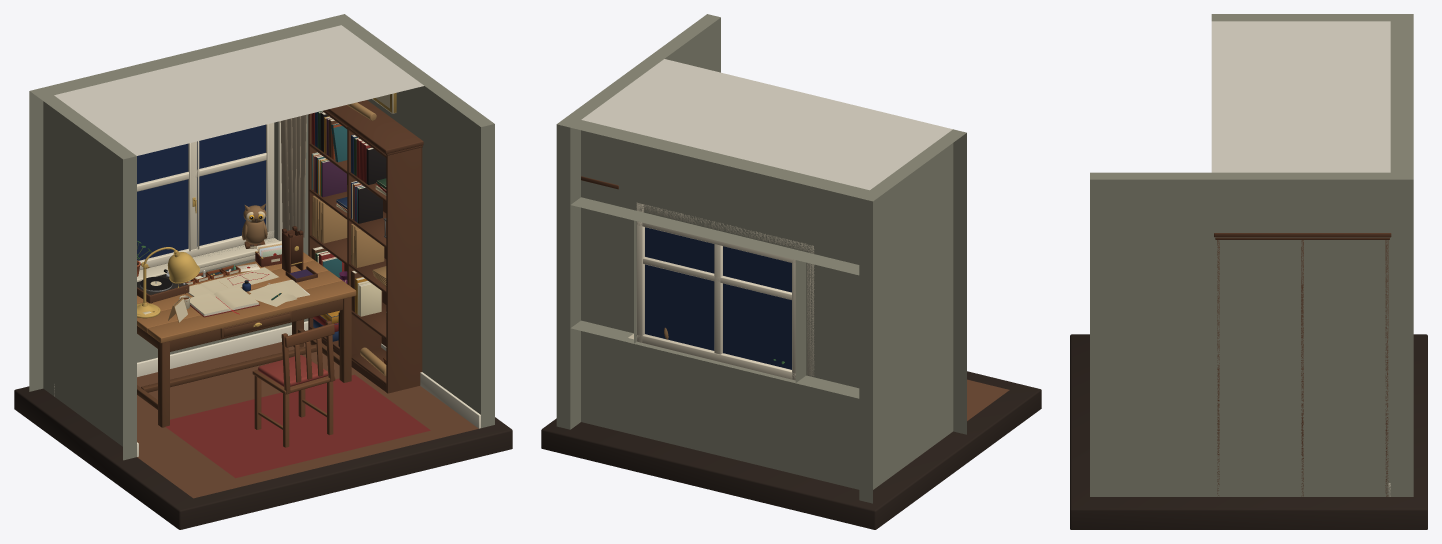
The model's file is study.glb.
3 views of the same model, side by side, from view 1: azimuth 30°, elevation 25°; view 2: azimuth 150°, elevation 25°; view 3: azimuth 270°, elevation 25° (orthographic). The views are drawn at different scales.
Parts seen in each view (by area): view 1: room_wall_sides, room_ceiling, shelf, room_slab, room_floor, room_rug, window_glass, room_wall_front, desk_frame, room_window, chair, desk_top_1 (+17 smaller); view 2: room_wall_front, room_wall_sides, room_ceiling, room_slab, window_glass, room_window, room_floor; view 3: room_wall_sides, room_ceiling, room_slab, room_wall_front, shelf.
Boxes of the visible parts, bbox=[...] form: room_wall_sides: bbox=[29, 14, 494, 460]; room_ceiling: bbox=[54, 25, 423, 155]; shelf: bbox=[308, 100, 423, 393]; room_slab: bbox=[14, 386, 512, 529]; room_floor: bbox=[137, 342, 478, 498]; room_rug: bbox=[165, 374, 430, 478]; window_glass: bbox=[137, 124, 265, 260]; room_wall_front: bbox=[43, 17, 340, 395]; desk_frame: bbox=[137, 297, 351, 427]; room_window: bbox=[137, 121, 282, 270]; chair: bbox=[252, 320, 335, 447]; desk_top_1: bbox=[147, 281, 356, 343]; room_wall_front: bbox=[570, 120, 869, 489]; room_wall_sides: bbox=[556, 14, 966, 503]; room_ceiling: bbox=[581, 59, 952, 190]; room_slab: bbox=[541, 371, 1041, 529]; window_glass: bbox=[645, 227, 791, 369]; room_window: bbox=[636, 202, 814, 380]; room_floor: bbox=[967, 379, 1009, 420]; room_wall_sides: bbox=[1090, 14, 1413, 496]; room_ceiling: bbox=[1211, 21, 1390, 172]; room_slab: bbox=[1070, 334, 1427, 529]; room_wall_front: bbox=[1390, 21, 1413, 496]; shelf: bbox=[1214, 233, 1391, 496].
Bounding box in the file's own units: 2.9 × 2.66 × 2.5.
